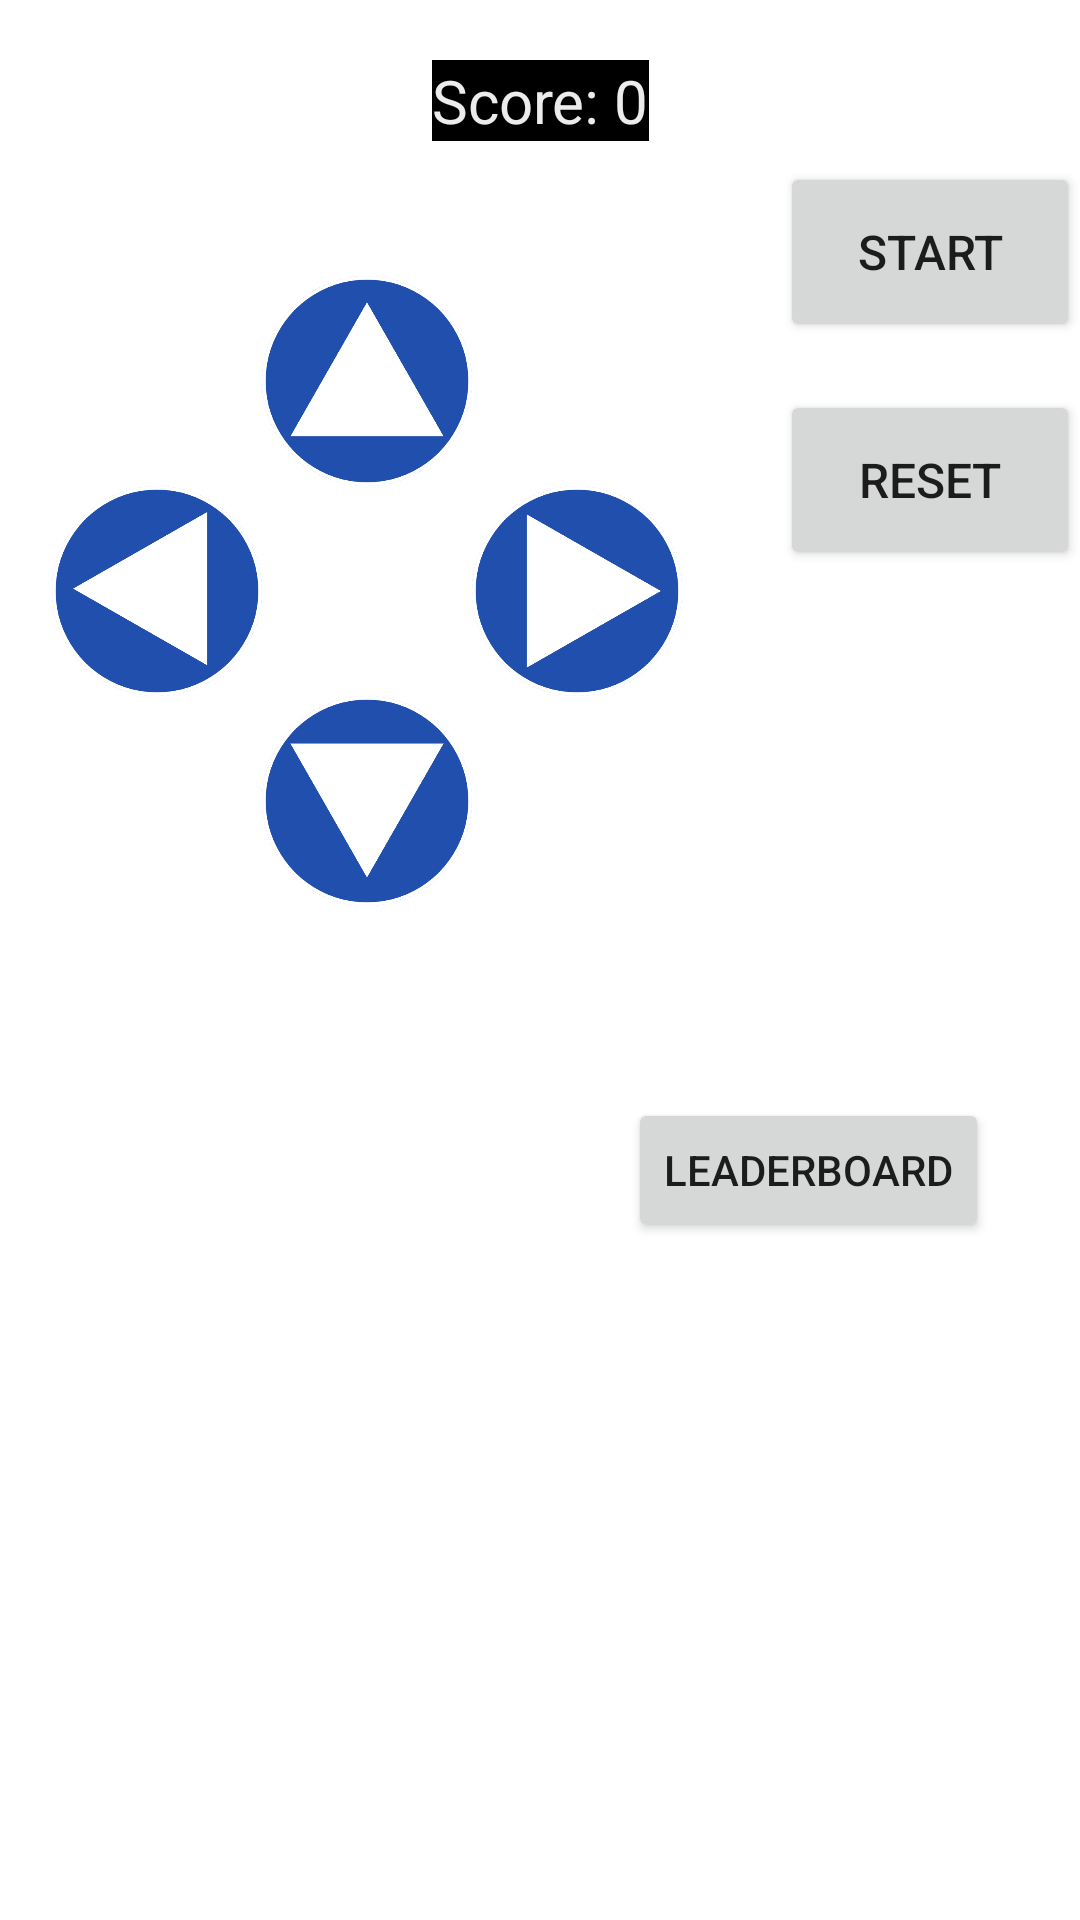

Icons on this 1080px x 1920px Android screen, each with the point to tap as (x,y):
Move down: (367,801)
Move left: (157,591)
Move right: (577,591)
Move up: (367,381)
